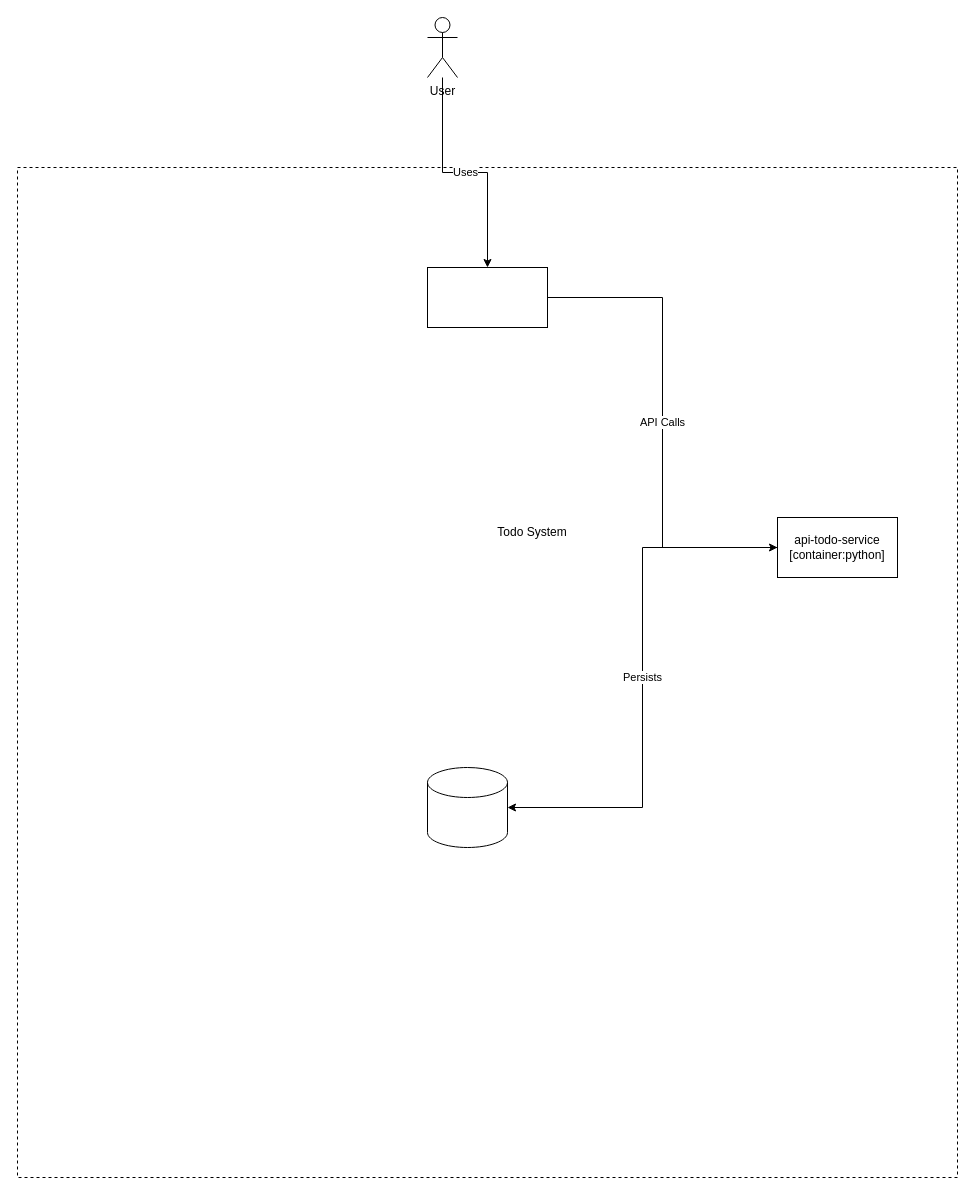
This 975x1195 diagram has some shape labels left out. Each missing label, with the centre of its shape:
"Todo DB [Postgresql]" belongs at pixel 467 807.
"todo-web-client [container:node.js]" belongs at pixel 487 297.
